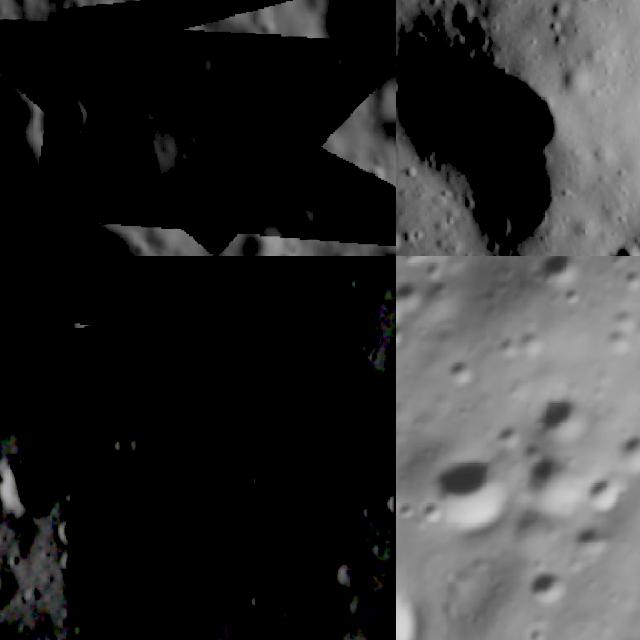crater: (396, 0, 617, 256), (47, 483, 196, 640), (406, 435, 521, 550), (305, 0, 396, 118), (143, 400, 240, 496), (53, 278, 139, 362), (501, 438, 586, 522), (0, 443, 74, 527), (5, 13, 74, 95), (35, 90, 98, 170), (529, 382, 596, 451), (155, 49, 217, 115), (227, 26, 286, 87), (520, 561, 576, 618), (576, 467, 630, 521), (525, 256, 593, 298), (564, 512, 618, 564), (555, 54, 604, 100), (606, 421, 640, 484), (350, 405, 396, 451), (249, 266, 291, 308), (233, 221, 282, 256), (396, 271, 433, 316), (591, 224, 640, 256), (304, 171, 341, 210), (212, 149, 247, 186), (358, 159, 392, 196), (412, 496, 447, 529), (541, 0, 580, 26), (396, 314, 413, 359), (396, 216, 414, 256), (451, 242, 498, 256), (379, 481, 396, 518), (110, 0, 148, 16), (570, 0, 610, 12), (274, 248, 303, 256)
